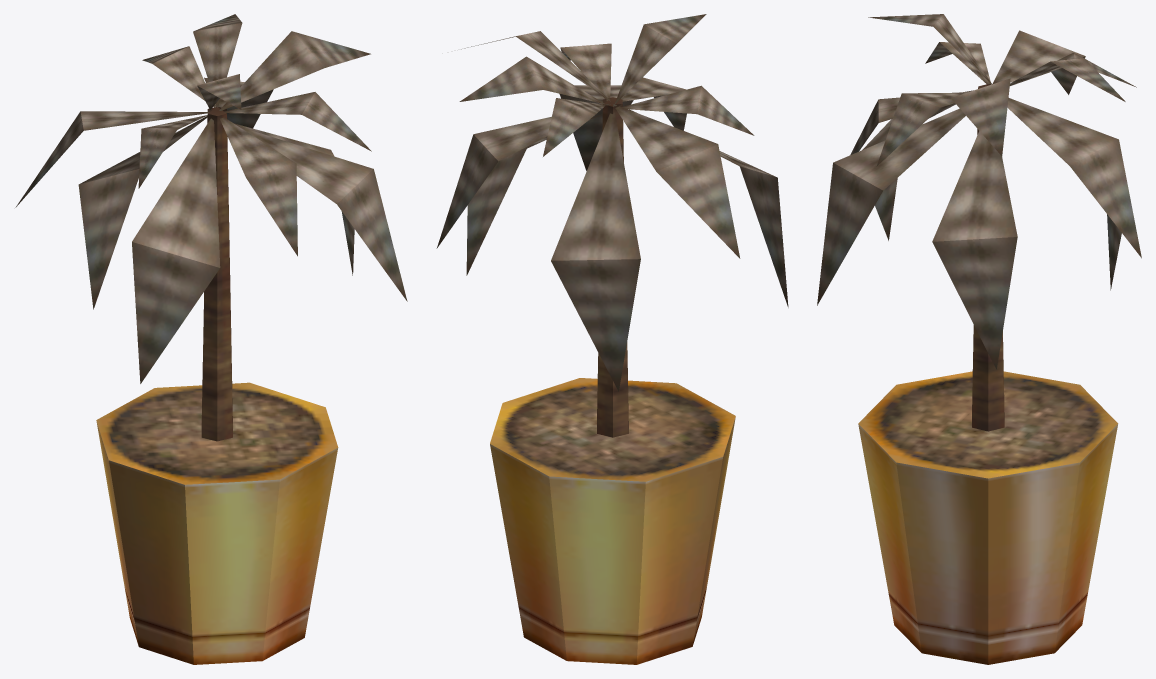
Rendered from medplant.fbx.
3 views of the same model, side by side, from view 1: azimuth 30°, elevation 25°; view 2: azimuth 150°, elevation 25°; view 3: azimuth 270°, elevation 25° (orthographic). The views are drawn at different scales.
Visible parts, largest first — view 1: mesh_0; view 2: mesh_0; view 3: mesh_0.
Part boxes in pixels (left/top/right/bottom): mesh_0: left=15, top=14, right=407, bottom=664; mesh_0: left=436, top=14, right=788, bottom=664; mesh_0: left=817, top=14, right=1141, bottom=664.
Size of the model in its own units: 38.89 by 65.66 by 32.42.
Materials: 1 (1 with a texture image).
